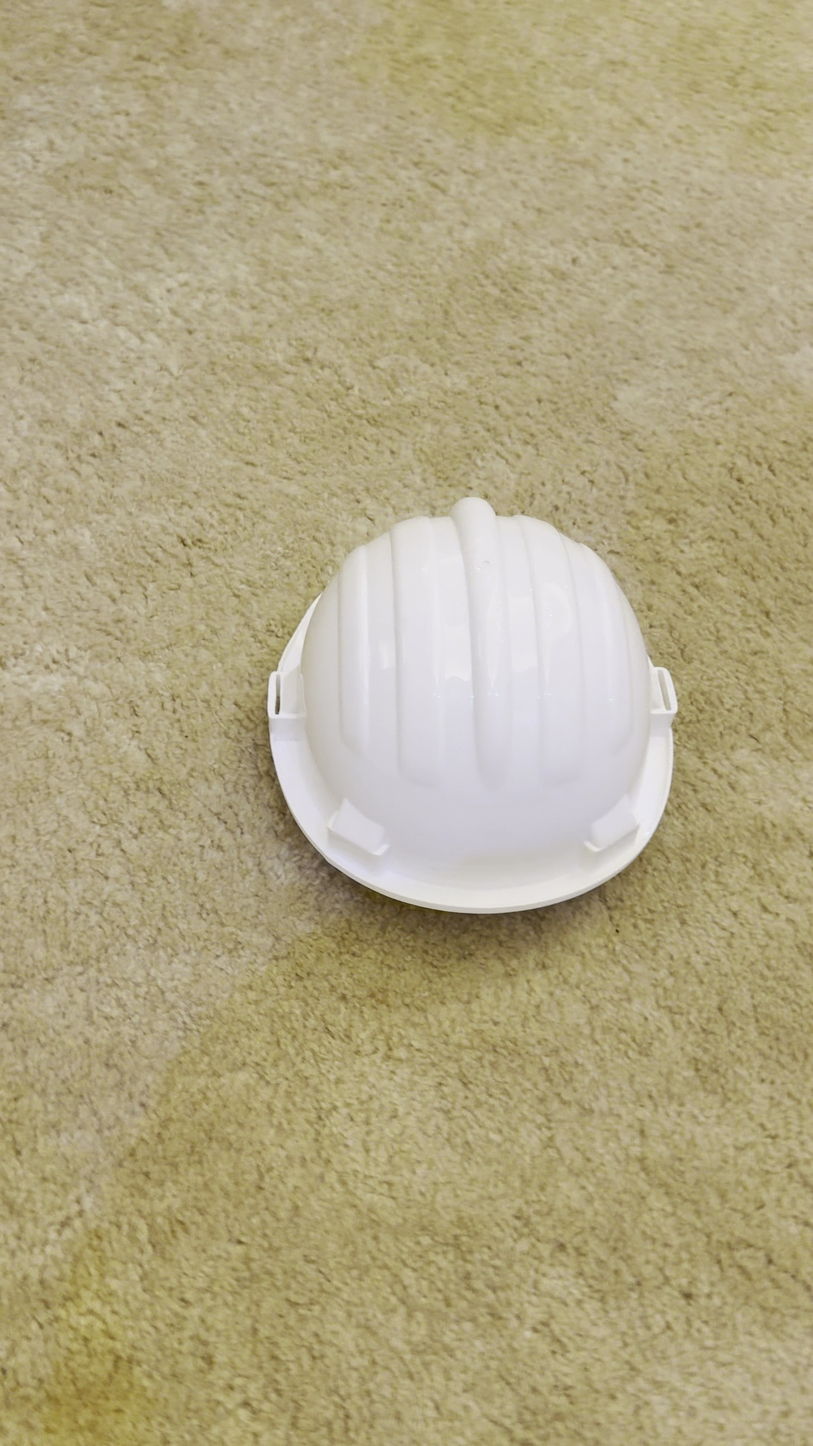safety_helmet: (264, 495, 679, 917)
